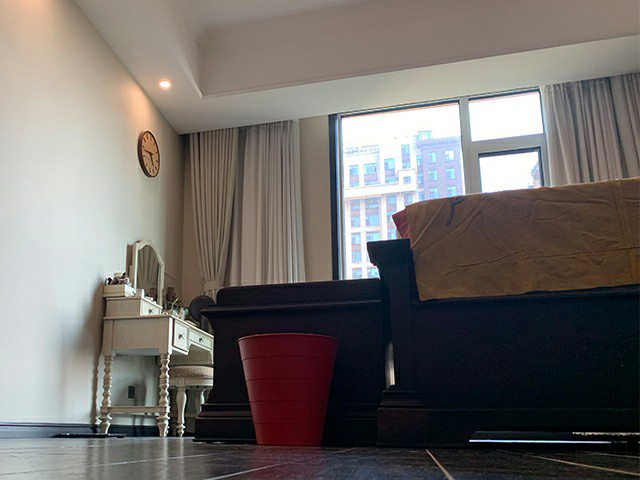bed: (366, 176, 640, 450)
stool: (193, 276, 389, 449), (167, 364, 214, 439)
table: (96, 239, 215, 439)
trashcan: (236, 332, 340, 451)
